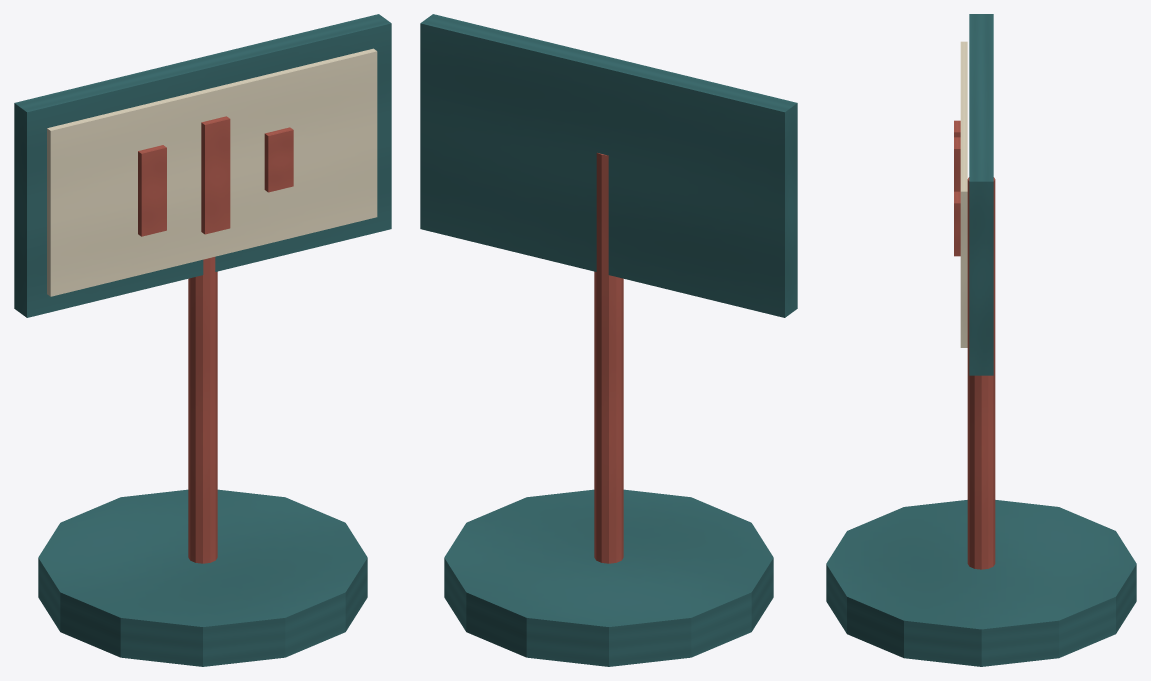
The model's file is atlas100-s031-a11.glb.
The picture shows the model from 3 angles, left to right: view 1: azimuth 30°, elevation 25°; view 2: azimuth 150°, elevation 25°; view 3: azimuth 270°, elevation 25°; orthographic projection. The views are drawn at different scales.
Visible parts, largest first — view 1: atlas100-s031-a11:part-003, atlas100-s031-a11:part-000, atlas100-s031-a11:part-002, atlas100-s031-a11:part-001, atlas100-s031-a11:part-005, atlas100-s031-a11:part-004, atlas100-s031-a11:part-006; view 2: atlas100-s031-a11:part-002, atlas100-s031-a11:part-000, atlas100-s031-a11:part-001; view 3: atlas100-s031-a11:part-000, atlas100-s031-a11:part-002, atlas100-s031-a11:part-001, atlas100-s031-a11:part-003, atlas100-s031-a11:part-006.
Part boxes in pixels (bbox=[...]): atlas100-s031-a11:part-003: bbox=[47, 48, 377, 296]; atlas100-s031-a11:part-000: bbox=[38, 489, 367, 666]; atlas100-s031-a11:part-002: bbox=[14, 14, 391, 317]; atlas100-s031-a11:part-001: bbox=[188, 257, 217, 563]; atlas100-s031-a11:part-005: bbox=[201, 116, 230, 234]; atlas100-s031-a11:part-004: bbox=[138, 145, 166, 236]; atlas100-s031-a11:part-006: bbox=[264, 127, 293, 192]; atlas100-s031-a11:part-002: bbox=[420, 14, 797, 317]; atlas100-s031-a11:part-000: bbox=[444, 489, 773, 666]; atlas100-s031-a11:part-001: bbox=[594, 153, 623, 563]; atlas100-s031-a11:part-000: bbox=[826, 500, 1136, 666]; atlas100-s031-a11:part-002: bbox=[969, 14, 993, 375]; atlas100-s031-a11:part-001: bbox=[967, 177, 995, 569]; atlas100-s031-a11:part-003: bbox=[960, 41, 967, 347]; atlas100-s031-a11:part-006: bbox=[954, 191, 960, 256].
Bounding box in the file's own units: 1.15 × 1.61 × 0.9.
Materials: 3 (3 with a texture image).
